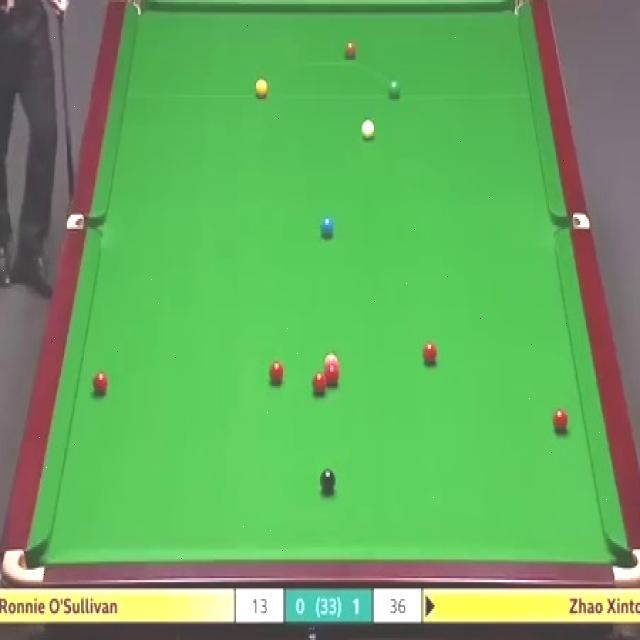black-ball: (320, 466, 336, 493)
blue-ball: (320, 215, 335, 238)
brown-ball: (344, 40, 356, 61)
green-ball: (387, 78, 400, 99)
pink-ball: (323, 353, 340, 368)
red-ball: (92, 369, 109, 397), (552, 410, 570, 433), (422, 341, 437, 366), (268, 361, 284, 384), (323, 365, 340, 386), (312, 373, 328, 394)
white-ball: (360, 117, 378, 143)
yellow-ball: (254, 76, 268, 98)
